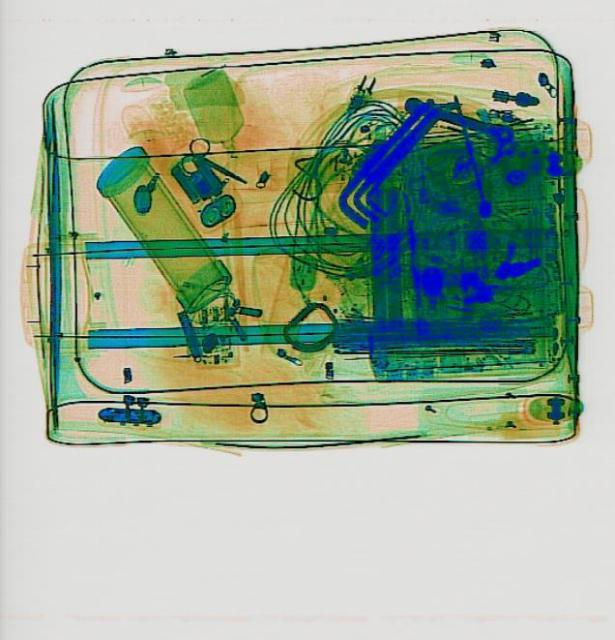Scissors: (171, 130, 256, 198)
